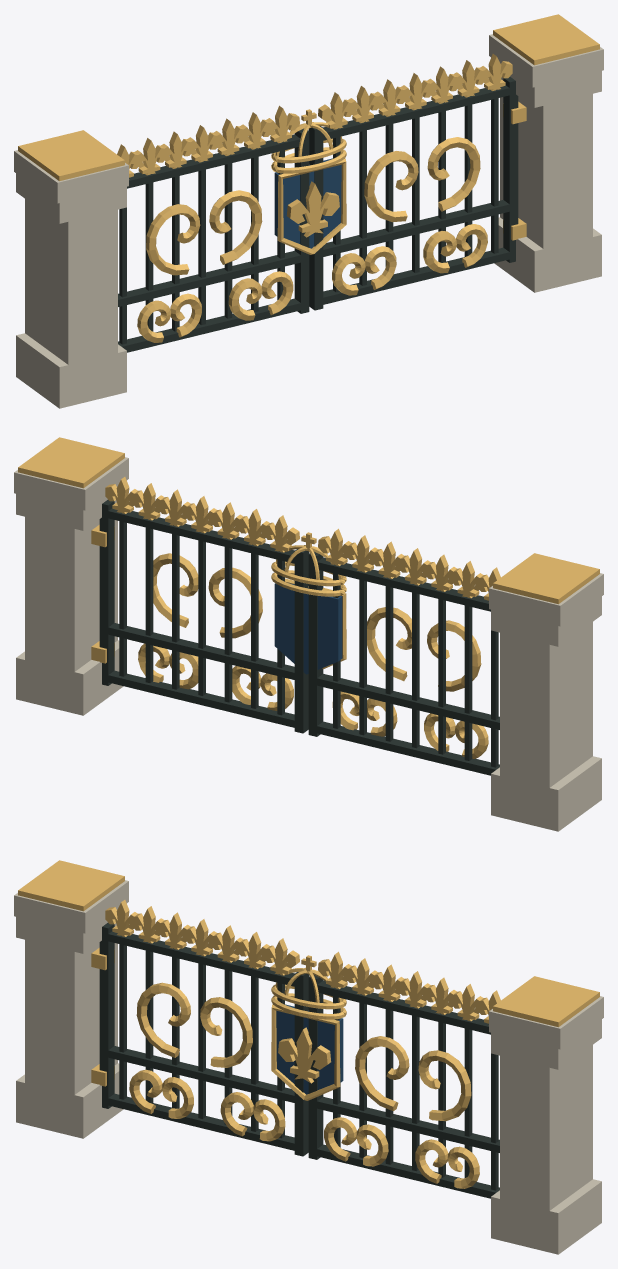
The model's file is wicket.glb.
3 views of the same model, one above another, from view 1: azimuth 30°, elevation 25°; view 2: azimuth 150°, elevation 25°; view 3: azimuth 330°, elevation 25° (orthographic).
Visible parts, largest first — view 1: Portillon - fleurs de lys volutes et medaillon royal.003; view 2: Portillon - fleurs de lys volutes et medaillon royal.003; view 3: Portillon - fleurs de lys volutes et medaillon royal.003.
Part boxes in pixels (x1,y1,x2,y2): Portillon - fleurs de lys volutes et medaillon royal.003: (14, 14, 603, 408); Portillon - fleurs de lys volutes et medaillon royal.003: (14, 437, 603, 831); Portillon - fleurs de lys volutes et medaillon royal.003: (14, 860, 603, 1254).
Size of the model in its own units: 2.75 by 1.11 by 0.38.
